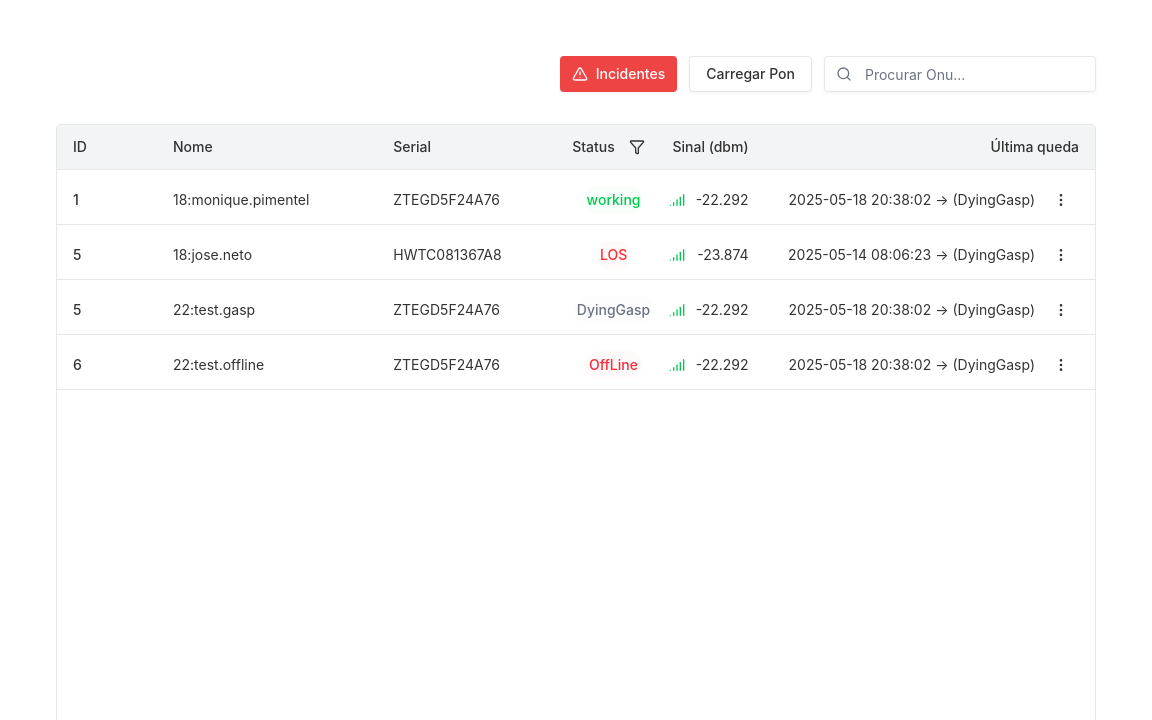
Test: PonScreen Filtrar por state, › Deve filtrar Onus pelo state LOS
Click the button named "filter-btn" at (637, 147), box [619, 137, 655, 157]
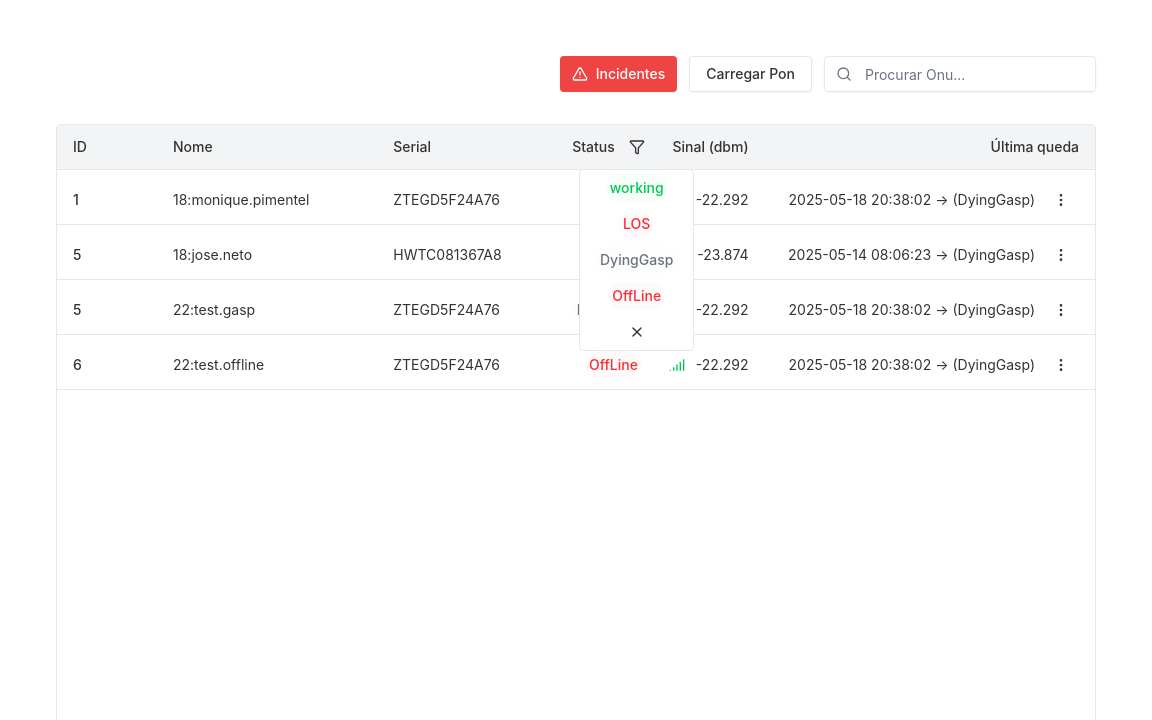
Click the button with aria-label "filter-LOS" at (637, 224), box [580, 206, 693, 242]
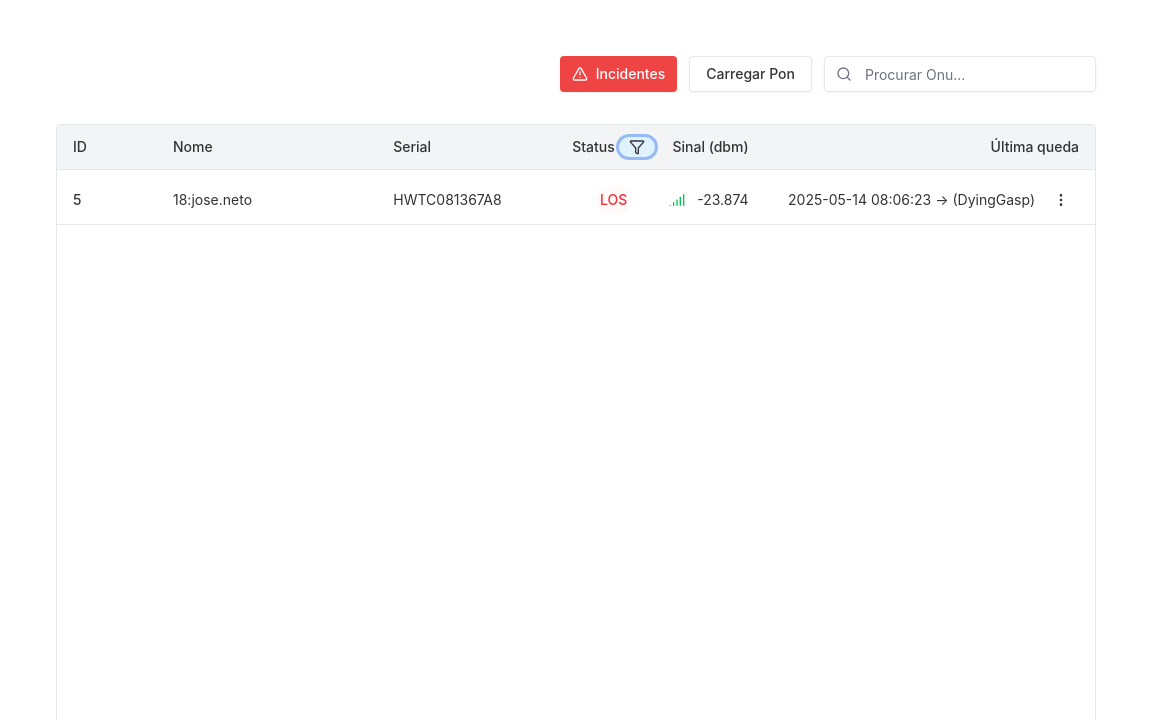
Now the number of elements named "row" is 1, box [57, 170, 1095, 225]
